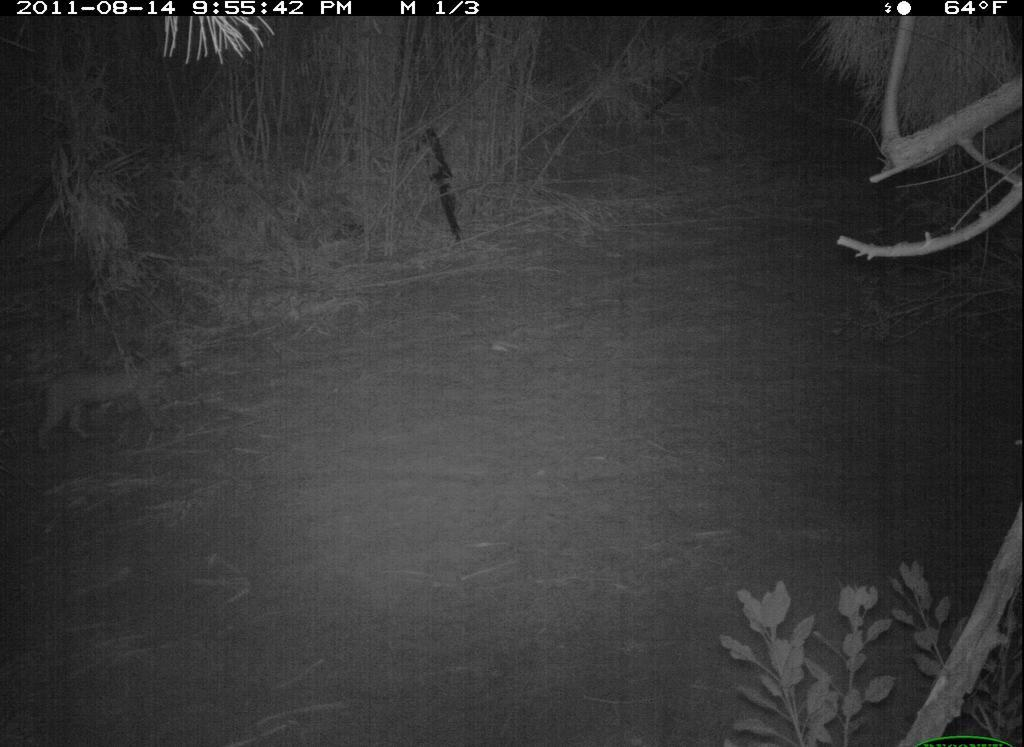bobcat: (6, 331, 199, 461)
